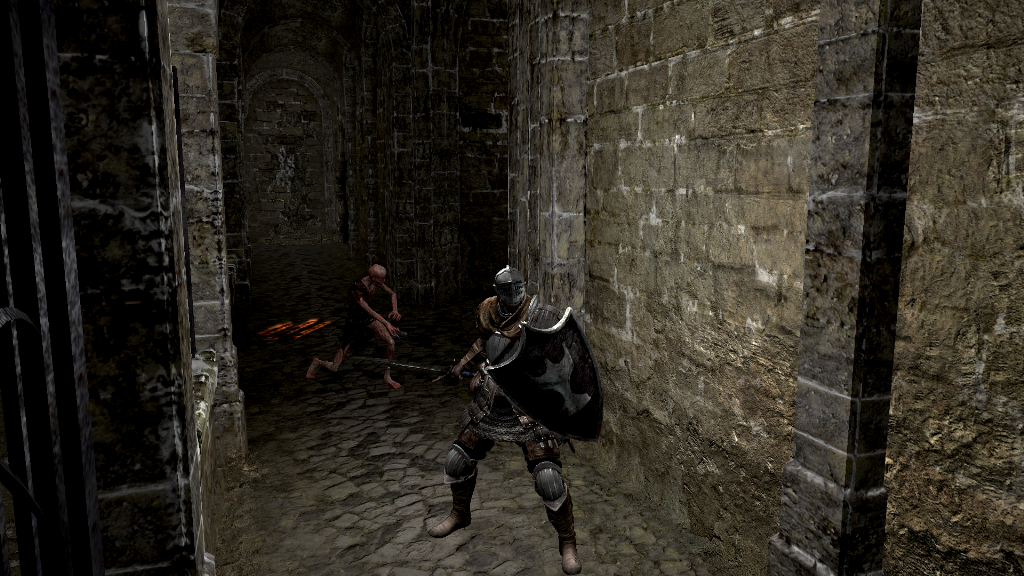hollow: (305, 263, 405, 388)
player: (424, 263, 604, 576)
